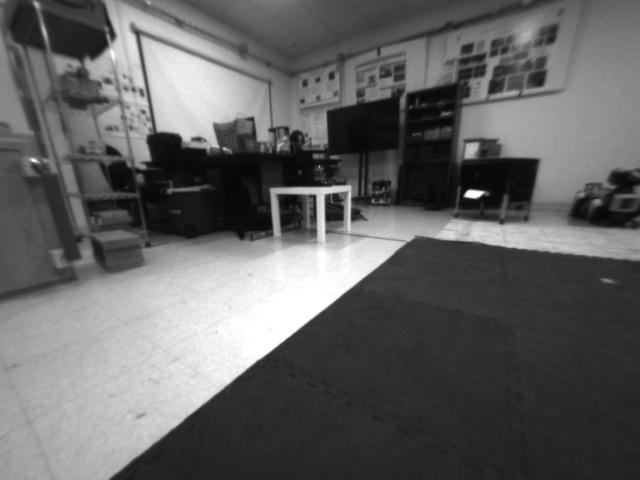coffee_pot: (297, 146, 334, 185)
